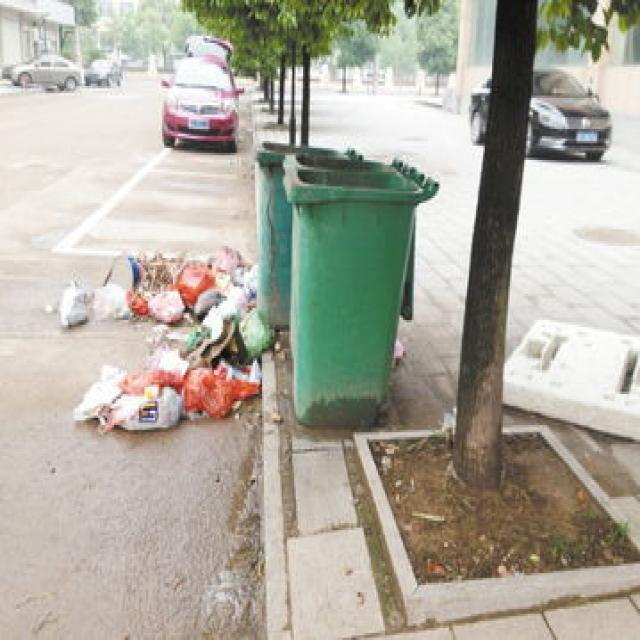garbage: (55, 241, 273, 432)
garbage_bin: (282, 148, 435, 430)
